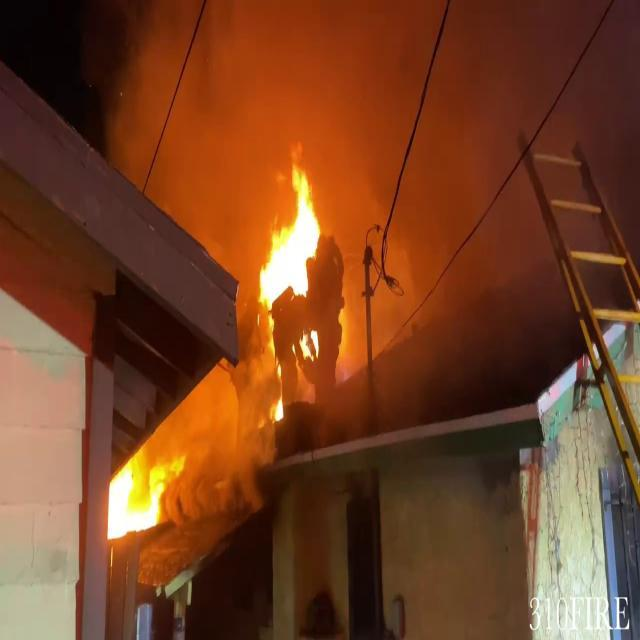Fire: (254, 148, 326, 328), (102, 448, 168, 548)
